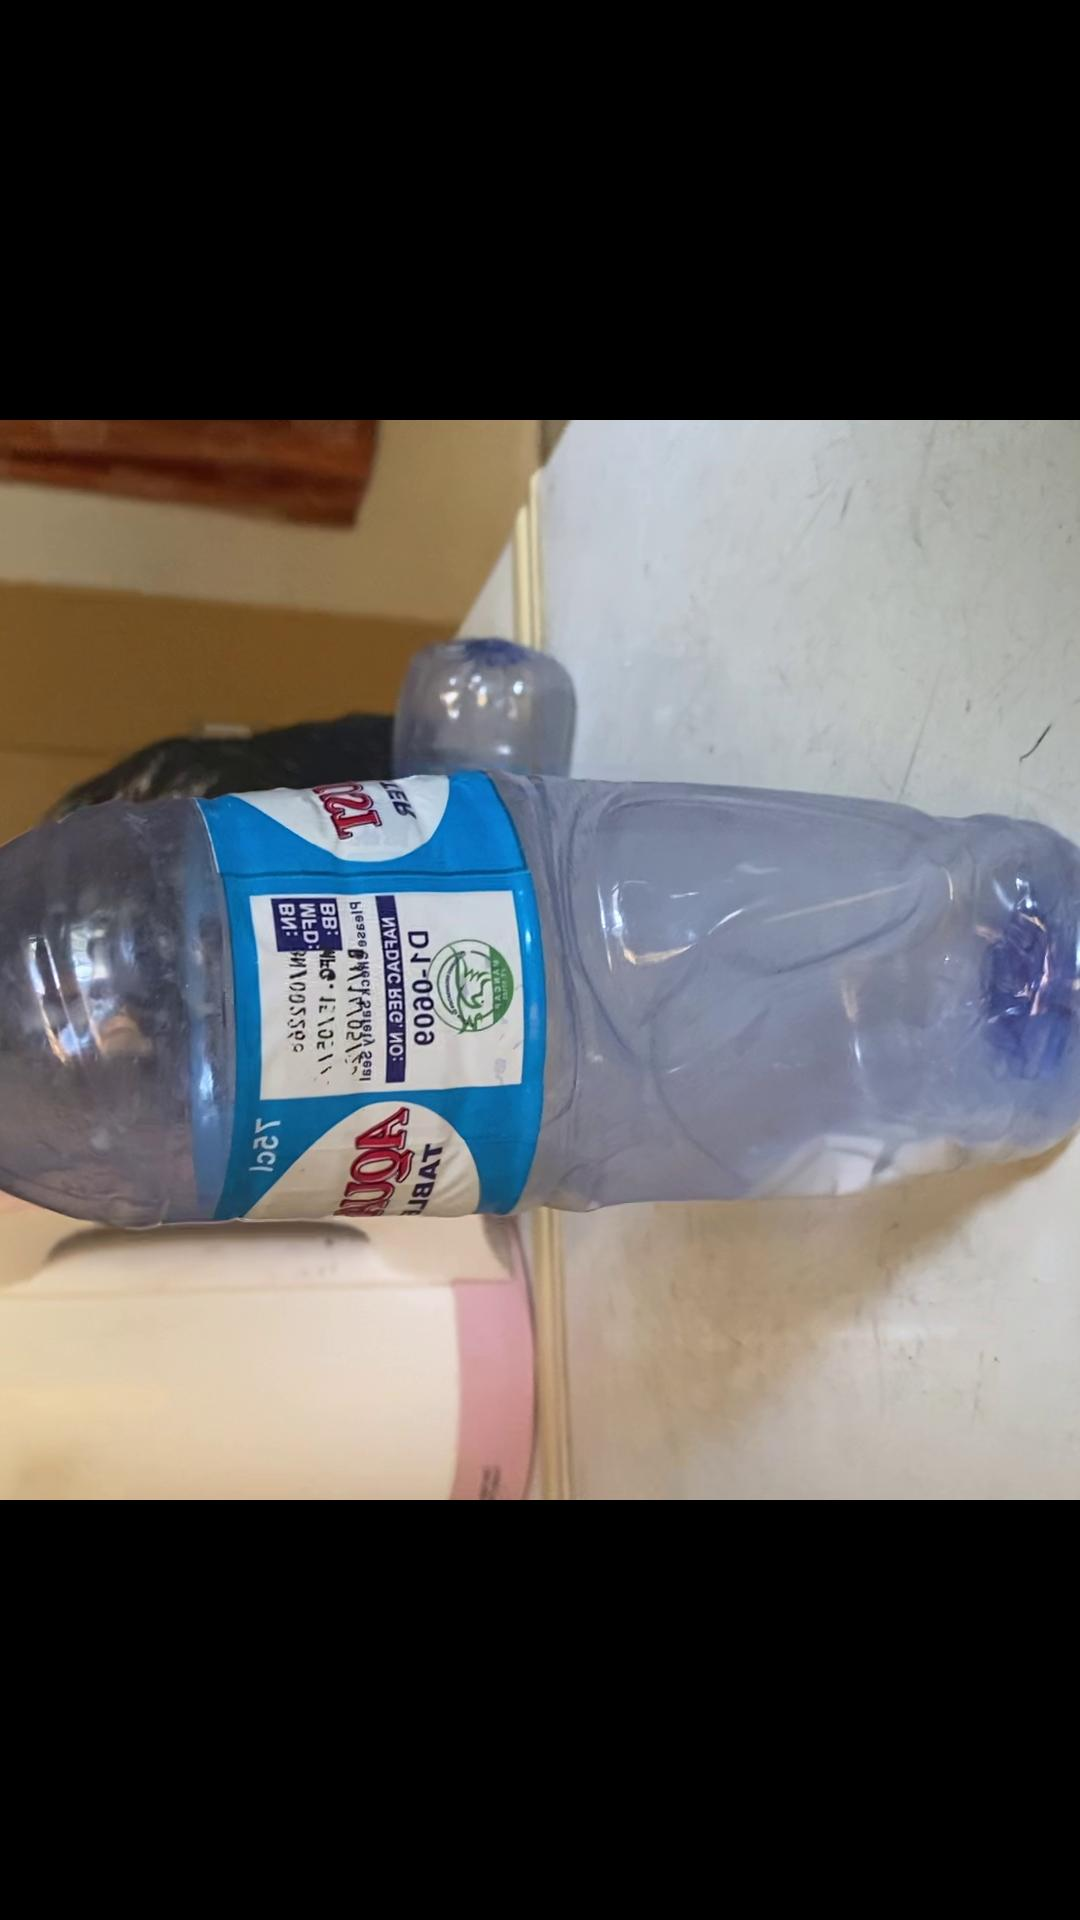crumbled: (0, 766, 1080, 1244)
label: (204, 790, 538, 1233)
